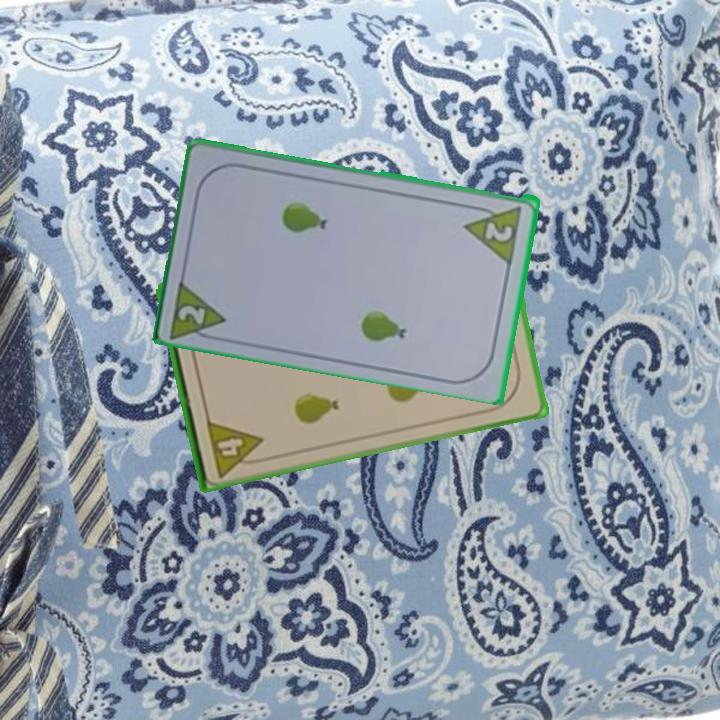2p: (482, 217, 516, 245), (175, 301, 209, 327)
4p: (203, 416, 269, 480)
